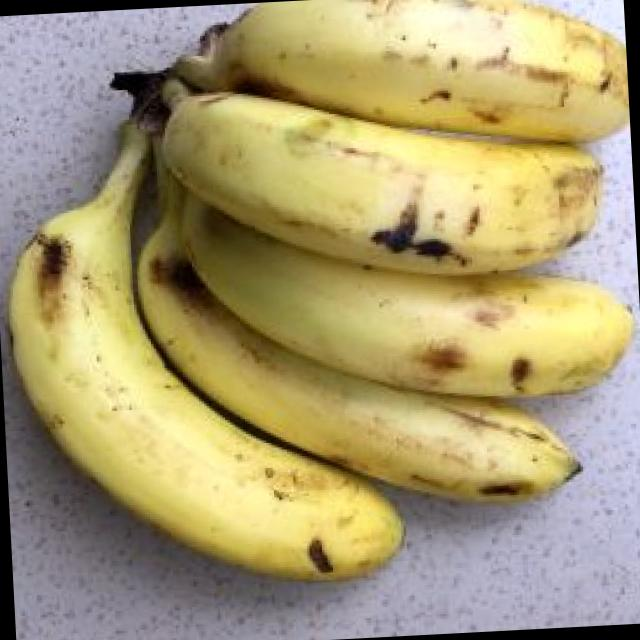banana: (14, 38, 502, 485)
